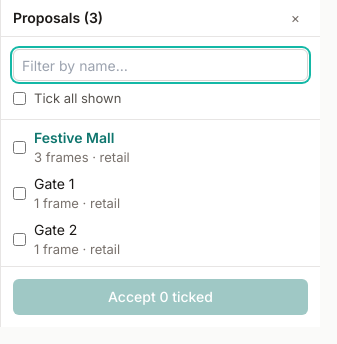
Test case: ProposalDrawer › narrows the list to names that match
Type "gate" into the search field named "Filter proposals" at {"x": 160, "y": 65}, box [13,49,308,81]
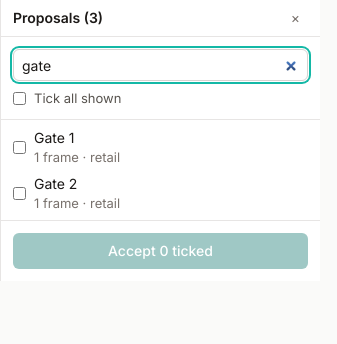
Expected: the button "Gate 2 1 frame · retail" is shown, [34,174,308,212]
Expected: the button "Festive Mall" is gone
